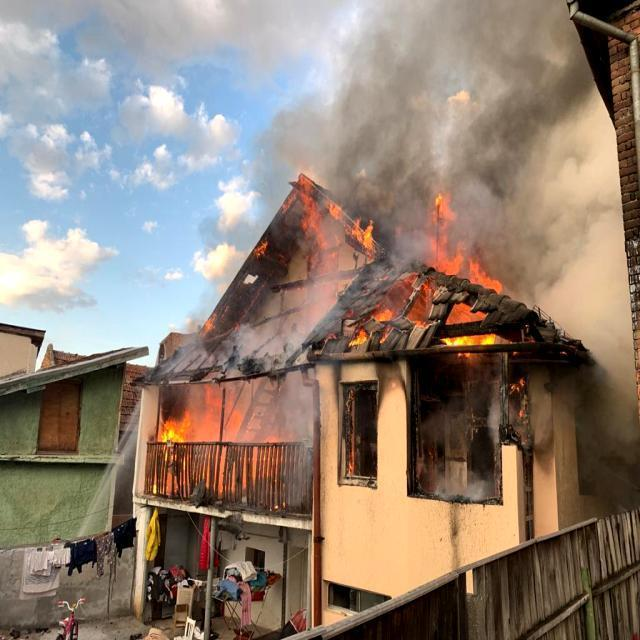Fire: (155, 385, 283, 488), (356, 286, 513, 356), (429, 188, 504, 286)
Smoke: (236, 1, 608, 282), (531, 358, 637, 527)
